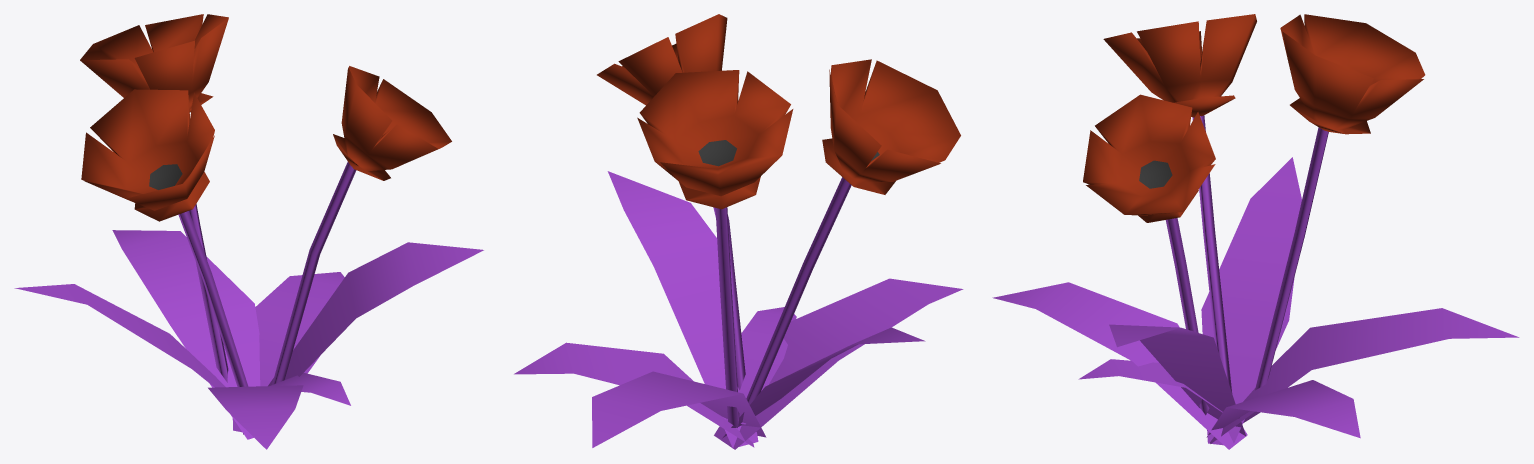
File: Carnations.fbx
3 renders of one model, left to right at view 1: azimuth 30°, elevation 25°; view 2: azimuth 150°, elevation 25°; view 3: azimuth 270°, elevation 25°, orthographic. The views are drawn at different scales.
Visible parts, largest first — view 1: carnations; view 2: carnations; view 3: carnations.
Boxes of the visible parts, <box> form: carnations: <box>14,14,483,449</box>; carnations: <box>514,14,963,449</box>; carnations: <box>992,14,1519,449</box>.
Size of the model in its own units: 79.97 by 74.9 by 90.86.
1 material, 1 textured.
